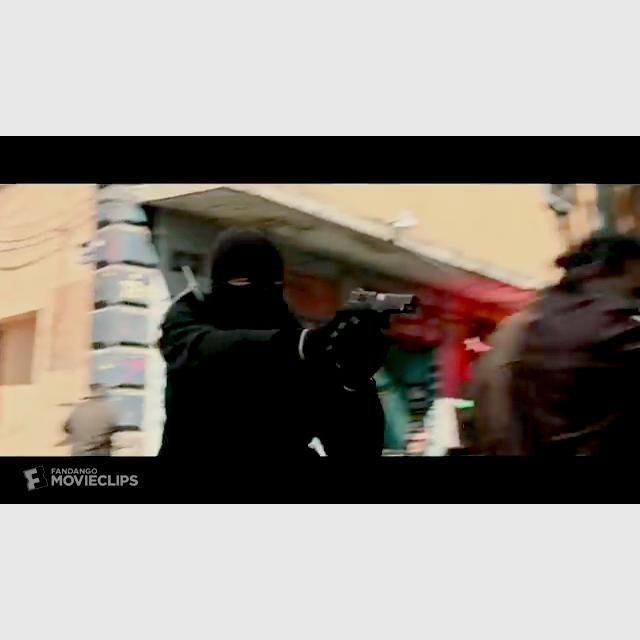criminal: (155, 226, 421, 457)
weapon: (348, 286, 420, 328)
